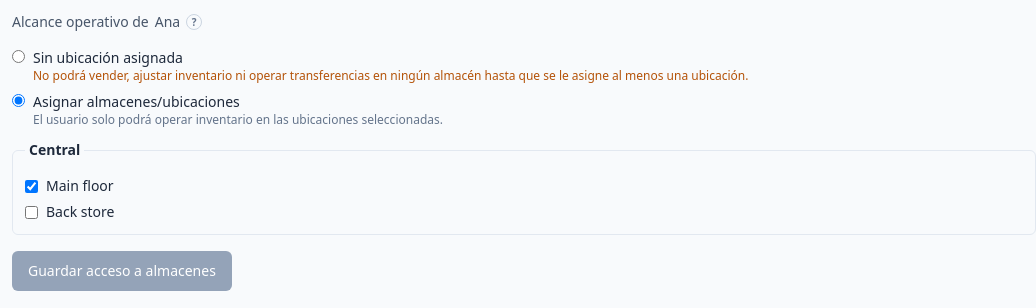
LocationAccess › shows a safe message on 403 and does not confirm success
This screenshot has width=1036, height=308.
Click the radio button labelled "Sin ubicación asignada": (18, 56) [12,50,25,63]
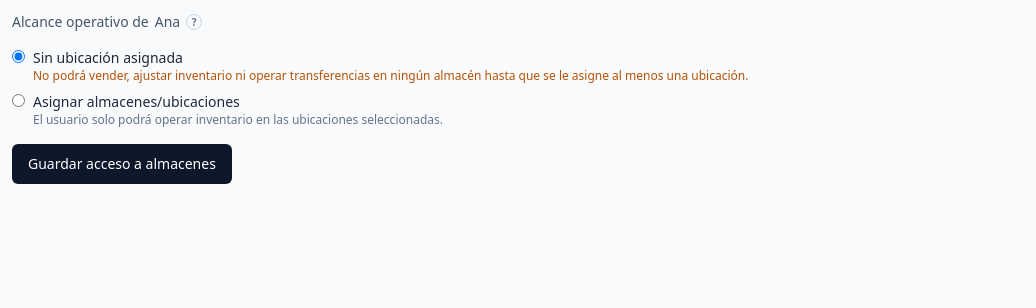
Click the button "Guardar acceso a almacenes": (122, 164) [12,144,232,184]
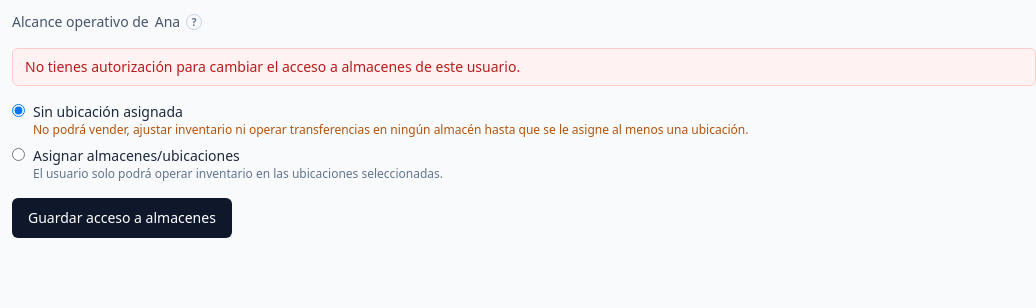
Expected: the message shows "No tienes autorización", [25,57,520,76]
